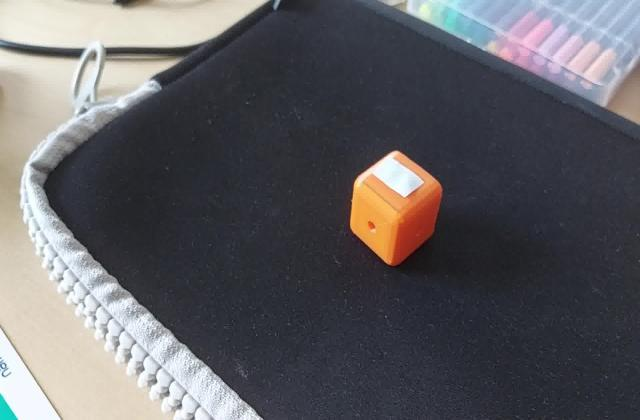sticker: (344, 148, 444, 270)
white: (376, 167, 426, 200)
